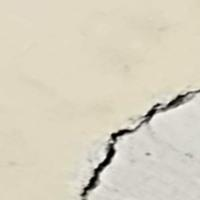crack: (78, 84, 199, 199)
